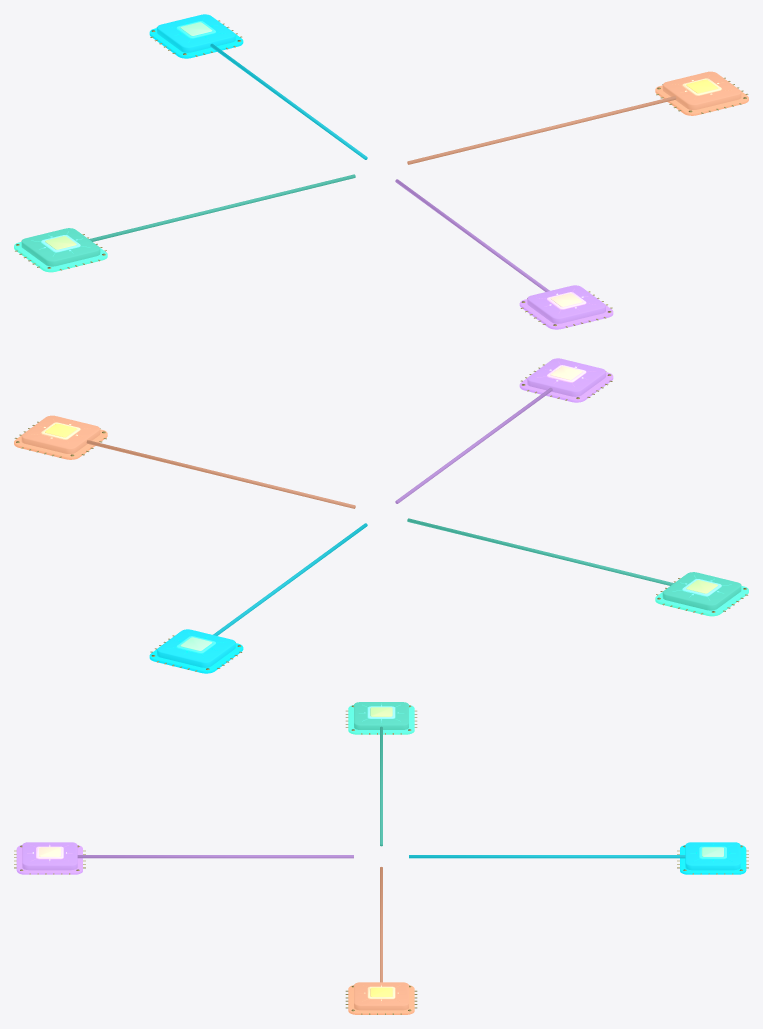
The model's file is ServerNodes.glb.
3 renders of one model, top to bottom at view 1: azimuth 30°, elevation 25°; view 2: azimuth 150°, elevation 25°; view 3: azimuth 270°, elevation 25°, orthographic. The views are drawn at different scales.
Visible parts, largest first — view 1: ServerNode_S_body, ServerNode_W_body, ServerNode_E_body, ServerNode_N_body, Conduit_ServerNode_E, Conduit_ServerNode_W, Conduit_ServerNode_N, Conduit_ServerNode_S, ServerNode_S_substrate, ServerNode_W_substrate, ServerNode_N_substrate, ServerNode_E_substrate; view 2: ServerNode_N_body, ServerNode_W_body, ServerNode_E_body, ServerNode_S_body, Conduit_ServerNode_E, Conduit_ServerNode_W, Conduit_ServerNode_S, Conduit_ServerNode_N, ServerNode_N_substrate, ServerNode_W_substrate, ServerNode_S_substrate, ServerNode_E_substrate; view 3: ServerNode_N_body, ServerNode_S_body, ServerNode_E_body, ServerNode_W_body, Conduit_ServerNode_N, Conduit_ServerNode_S, ServerNode_N_substrate, ServerNode_S_substrate, ServerNode_E_substrate, ServerNode_W_substrate.
Boxes of the visible parts, left/top/right/bottom form: ServerNode_S_body: left=527, top=285, right=605, bottom=323; ServerNode_W_body: left=21, top=228, right=100, bottom=266; ServerNode_E_body: left=662, top=71, right=741, bottom=109; ServerNode_N_body: left=157, top=14, right=235, bottom=52; Conduit_ServerNode_E: left=407, top=96, right=676, bottom=164; Conduit_ServerNode_W: left=89, top=174, right=355, bottom=241; Conduit_ServerNode_N: left=210, top=43, right=367, bottom=159; Conduit_ServerNode_S: left=395, top=179, right=549, bottom=291; ServerNode_S_substrate: left=519, top=299, right=613, bottom=329; ServerNode_W_substrate: left=14, top=242, right=107, bottom=272; ServerNode_N_substrate: left=149, top=28, right=243, bottom=58; ServerNode_E_substrate: left=655, top=85, right=748, bottom=115; ServerNode_N_body: left=157, top=629, right=235, bottom=667; ServerNode_W_body: left=662, top=572, right=741, bottom=610; ServerNode_E_body: left=21, top=415, right=100, bottom=453; ServerNode_S_body: left=527, top=358, right=605, bottom=396; Conduit_ServerNode_E: left=86, top=440, right=355, bottom=508; Conduit_ServerNode_W: left=407, top=518, right=673, bottom=585; Conduit_ServerNode_S: left=395, top=387, right=552, bottom=503; Conduit_ServerNode_N: left=213, top=523, right=367, bottom=635; ServerNode_N_substrate: left=149, top=643, right=243, bottom=673; ServerNode_W_substrate: left=655, top=586, right=748, bottom=616; ServerNode_S_substrate: left=519, top=372, right=613, bottom=402; ServerNode_E_substrate: left=14, top=429, right=107, bottom=459; ServerNode_N_body: left=685, top=842, right=740, bottom=870; ServerNode_S_body: left=22, top=842, right=77, bottom=870; ServerNode_E_body: left=354, top=982, right=408, bottom=1010; ServerNode_W_body: left=354, top=702, right=408, bottom=729; Conduit_ServerNode_N: left=409, top=855, right=685, bottom=858; Conduit_ServerNode_S: left=77, top=855, right=353, bottom=858; ServerNode_N_substrate: left=680, top=845, right=746, bottom=874; ServerNode_S_substrate: left=16, top=845, right=82, bottom=874; ServerNode_E_substrate: left=348, top=985, right=414, bottom=1014; ServerNode_W_substrate: left=348, top=705, right=414, bottom=734.
Size of the model in its own units: 2.66 by 0.037 by 2.66.
